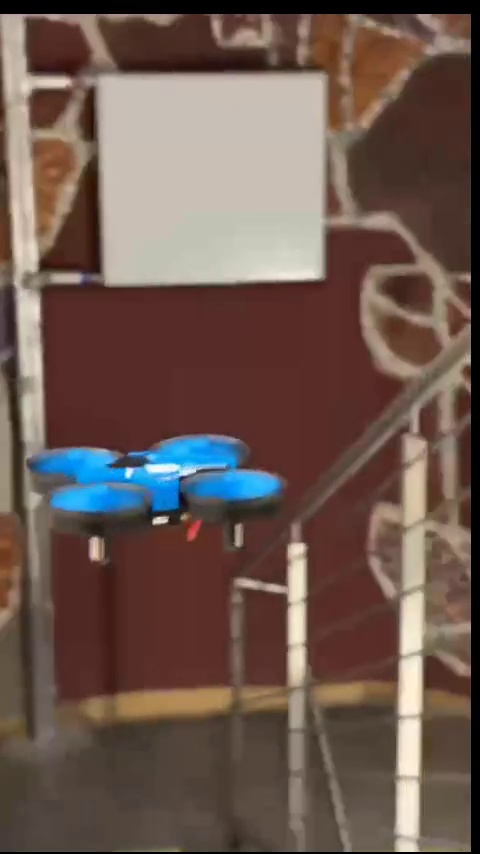drone: (24, 437, 287, 558)
